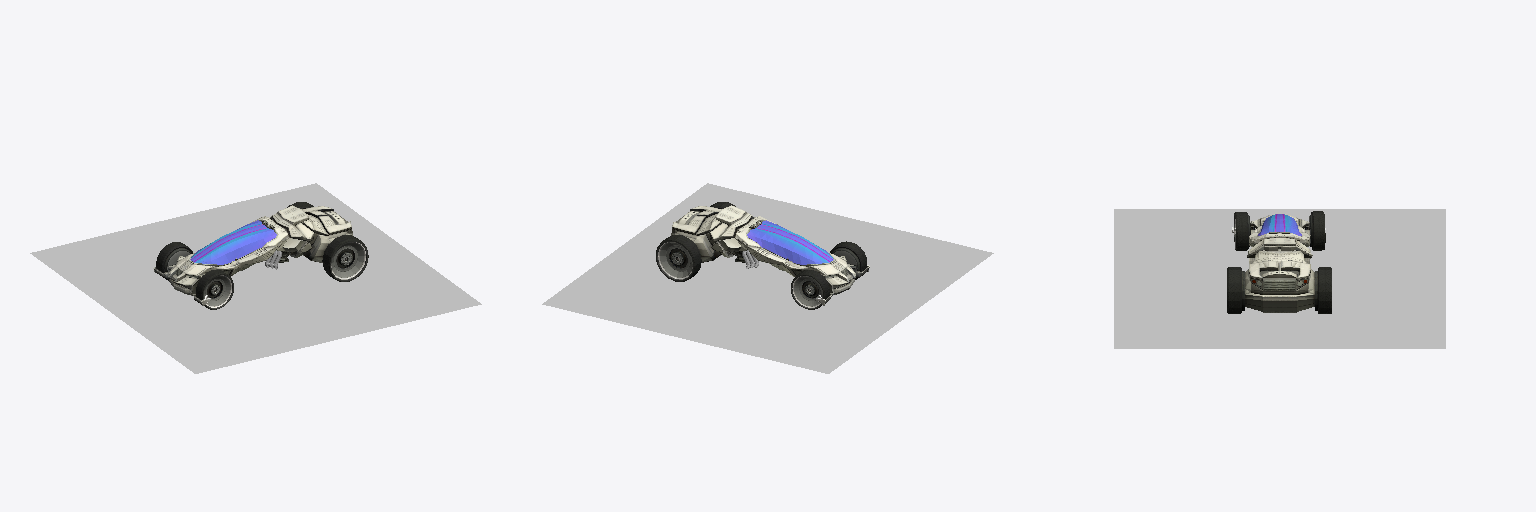
The picture shows the model from 3 angles: view 1: azimuth 30°, elevation 25°; view 2: azimuth 150°, elevation 25°; view 3: azimuth 270°, elevation 25°; orthographic projection.
Parts seen in each view (by area): view 1: Plane.004_Plane.002, Speed_car.007_Cube.042, Speed_car.000_Cube.000, Cube.045_Cube.047, Cube.044_Cube.046; view 2: Plane.004_Plane.002, Speed_car.007_Cube.042, Speed_car.000_Cube.000, Cube.045_Cube.047, Cube.044_Cube.046; view 3: Plane.004_Plane.002, Speed_car.007_Cube.042, Cube.044_Cube.046, Speed_car.000_Cube.000, Cube.045_Cube.047.
Part boxes in pixels (x1,y1,x2,y2): Plane.004_Plane.002: (30, 183, 481, 373); Speed_car.007_Cube.042: (168, 205, 352, 295); Speed_car.000_Cube.000: (153, 242, 233, 309); Cube.045_Cube.047: (190, 220, 276, 264); Cube.044_Cube.046: (287, 202, 368, 281); Plane.004_Plane.002: (542, 183, 993, 373); Speed_car.007_Cube.042: (671, 205, 855, 295); Speed_car.000_Cube.000: (791, 241, 869, 309); Cube.045_Cube.047: (747, 220, 833, 264); Cube.044_Cube.046: (656, 202, 735, 281); Plane.004_Plane.002: (1114, 209, 1445, 348); Speed_car.007_Cube.042: (1242, 214, 1317, 312); Cube.044_Cube.046: (1227, 267, 1331, 313); Speed_car.000_Cube.000: (1232, 211, 1325, 250); Cube.045_Cube.047: (1258, 214, 1301, 236).
Size of the model in its own units: 11.46 by 2.66 by 11.46.
Materials: 7 (2 with a texture image).